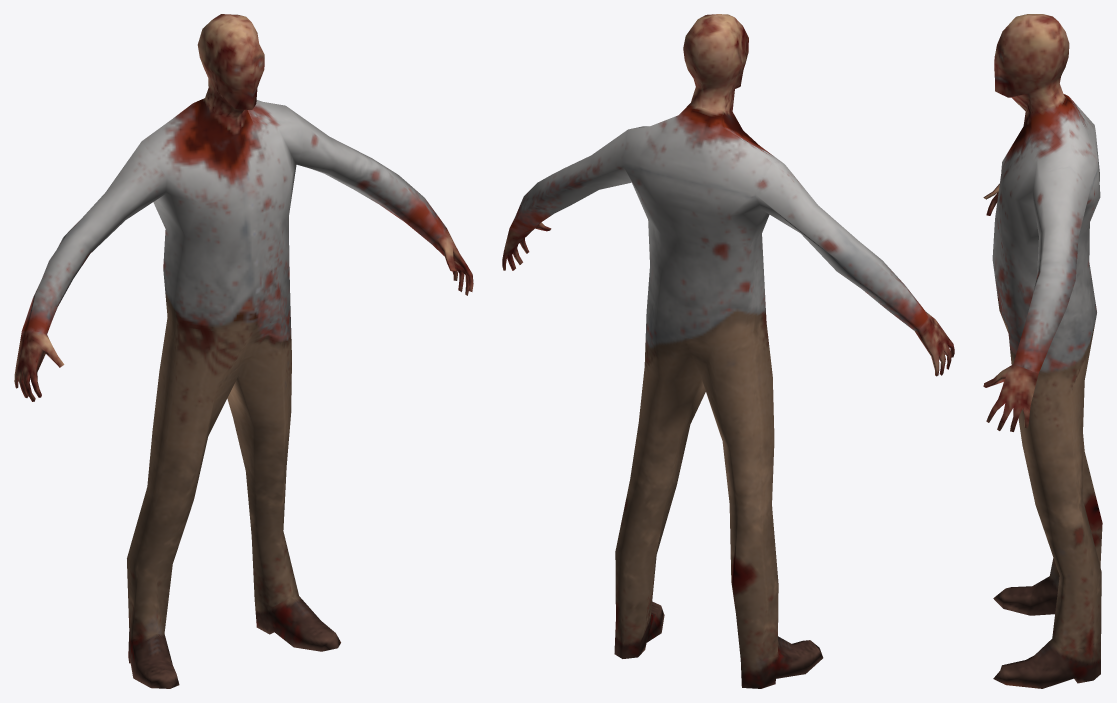
Rendered from zombie_01.fbx.
3 views of the same model, side by side, from view 1: azimuth 30°, elevation 25°; view 2: azimuth 150°, elevation 25°; view 3: azimuth 270°, elevation 25° (orthographic). The views are drawn at different scales.
Visible parts, largest first — view 1: zombie_01; view 2: zombie_01; view 3: zombie_01.
Part boxes in pixels (x1=…): zombie_01: x1=14, y1=14, x2=473, y2=688; zombie_01: x1=502, y1=14, x2=954, y2=688; zombie_01: x1=983, y1=14, x2=1102, y2=688.
Bounding box in the file's own units: 138 × 191 × 32.71.
Materials: 1 (1 with a texture image).
